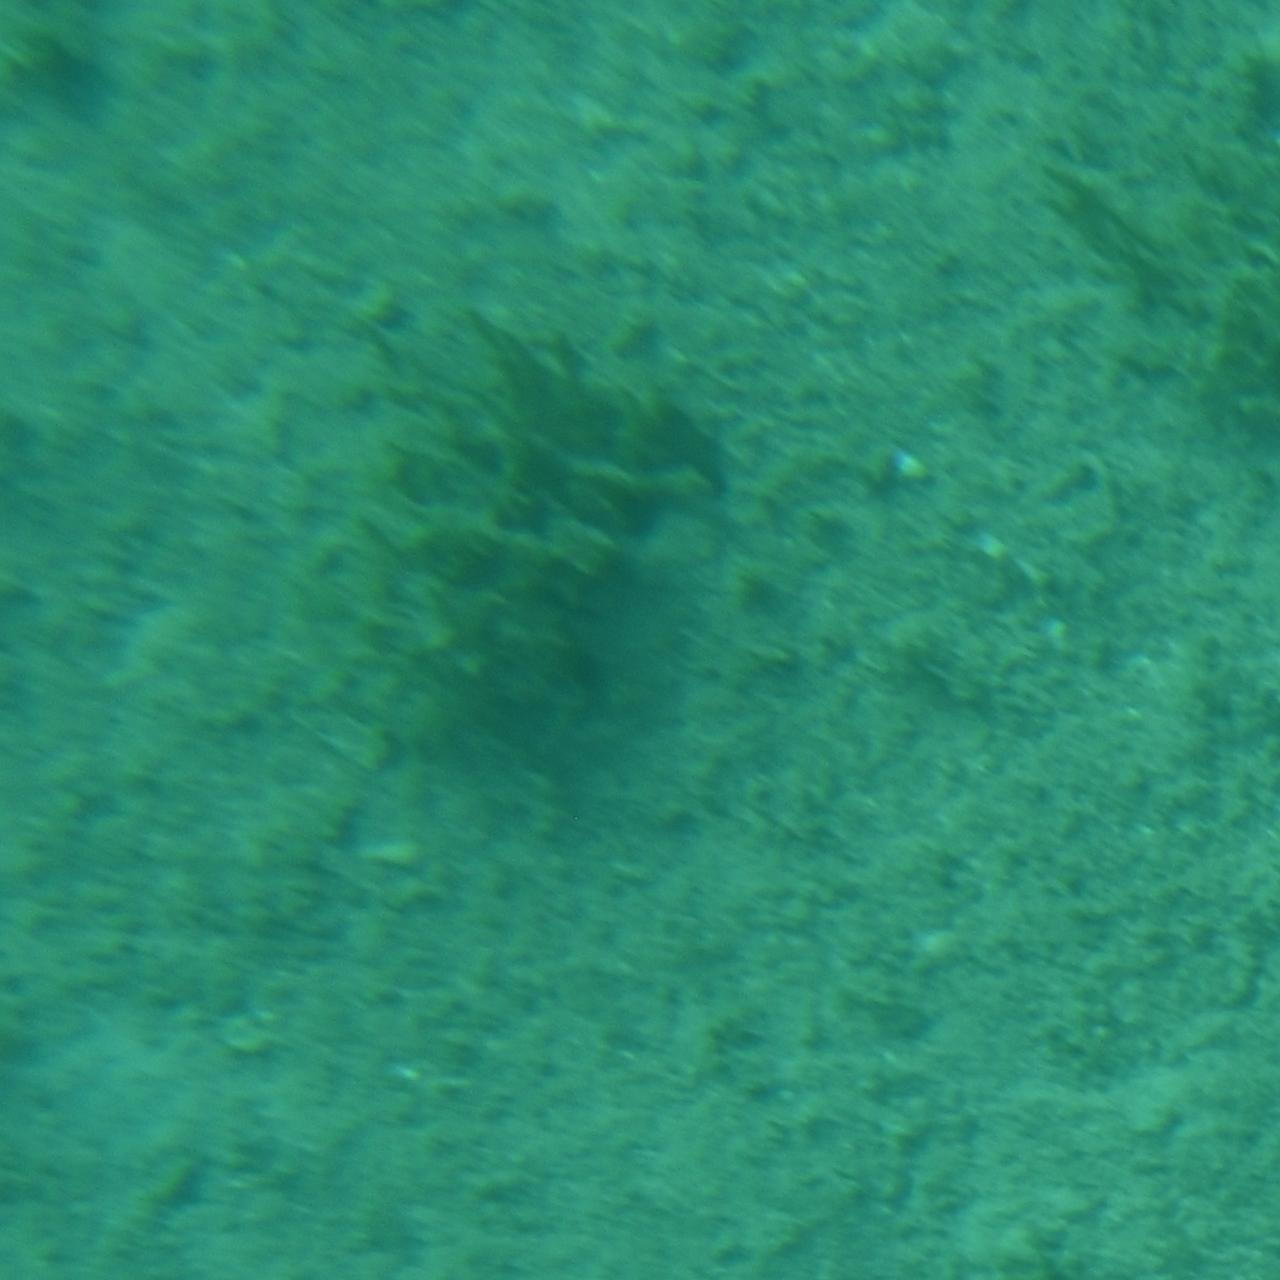Phaeophyceae -cfr Cystoseira-: (286, 300, 763, 762)
